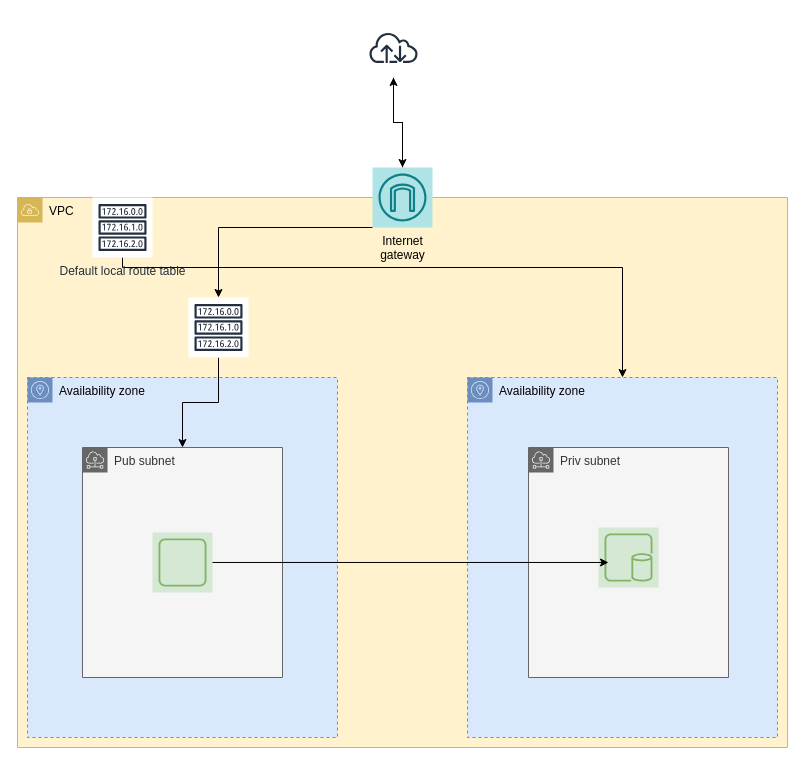
Image size: 805x765. Some labels were removed from this diagram. Each missing label, with the centre of its shape:
DB on Instance: the point at 628,557
Instance: the point at 182,562
Internet: the point at 393,47
Public Route table: the point at 218,327
